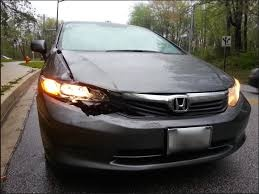Dent: (69, 87, 146, 120)
